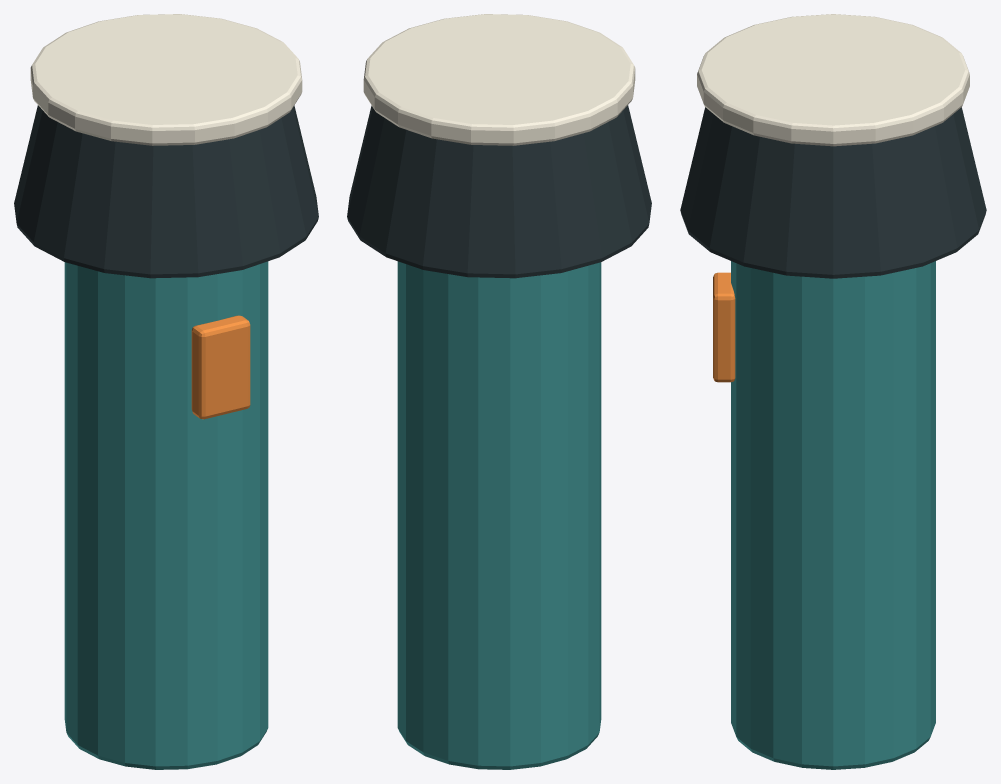
The model's file is P016_flashlight.glb.
The picture shows the model from 3 angles, left to right: view 1: azimuth 30°, elevation 25°; view 2: azimuth 150°, elevation 25°; view 3: azimuth 270°, elevation 25°; orthographic projection.
Visible parts, largest first — view 1: P016_body_001, P016_head_002, P016_lens_003, P016_switch_004; view 2: P016_body_001, P016_head_002, P016_lens_003; view 3: P016_body_001, P016_head_002, P016_lens_003, P016_switch_004.
Boxes of the visible parts, x1,y1,x2,y2 form: P016_body_001: [64, 261, 268, 769]; P016_head_002: [14, 105, 318, 278]; P016_lens_003: [30, 14, 302, 145]; P016_switch_004: [191, 315, 250, 419]; P016_body_001: [397, 261, 601, 769]; P016_head_002: [347, 105, 651, 278]; P016_lens_003: [363, 14, 635, 145]; P016_body_001: [731, 261, 935, 769]; P016_head_002: [680, 107, 986, 278]; P016_lens_003: [697, 14, 969, 146]; P016_switch_004: [713, 272, 735, 382].
Size of the model in its own units: 0.1347 by 0.331 by 0.1347.
